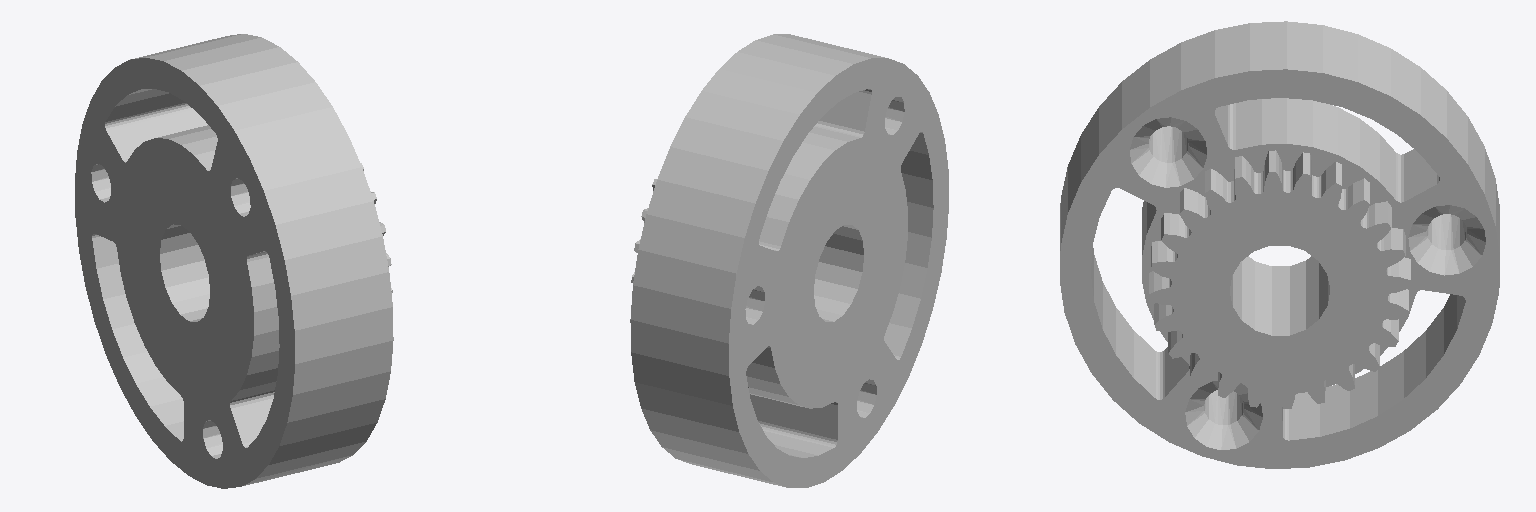
Rendered from arx5_gripper_gear.obj.
3 views of the same model, side by side, from view 1: azimuth 30°, elevation 25°; view 2: azimuth 150°, elevation 25°; view 3: azimuth 270°, elevation 25° (orthographic).
Parts seen in each view (by area): view 1: link6.118; view 2: link6.118; view 3: link6.118.
Boxes of the visible parts, x1=… form: link6.118: x1=75, y1=34, x2=393, y2=488; link6.118: x1=630, y1=34, x2=948, y2=487; link6.118: x1=1060, y1=21, x2=1499, y2=468.
Bounding box in the file's own units: 0.013 × 0.035 × 0.035.